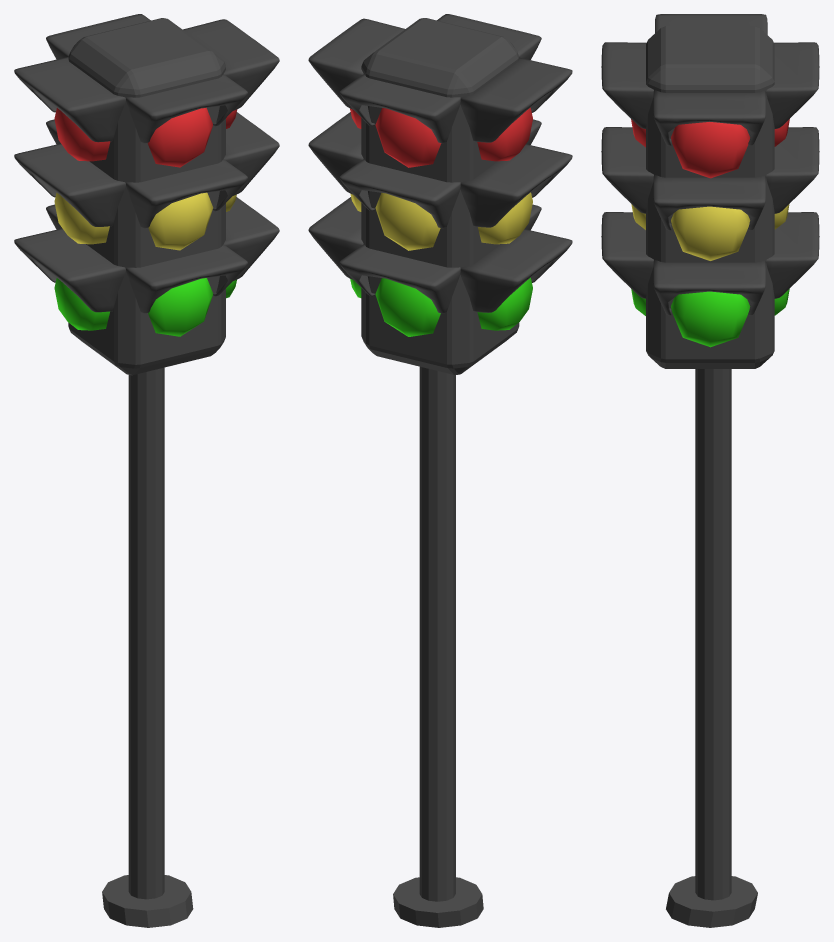
The model's file is Traffic Light.fbx.
The picture shows the model from 3 angles, left to right: view 1: azimuth 30°, elevation 25°; view 2: azimuth 150°, elevation 25°; view 3: azimuth 270°, elevation 25°; orthographic projection.
Visible parts, largest first — view 1: Traffic Lights; view 2: Traffic Lights; view 3: Traffic Lights.
Boxes of the visible parts, box(x1,y1,x2,y2) form: Traffic Lights: box(14, 14, 279, 927); Traffic Lights: box(308, 14, 572, 927); Traffic Lights: box(601, 14, 819, 927).
Bounding box in the file's own units: 162 × 625 × 143.
